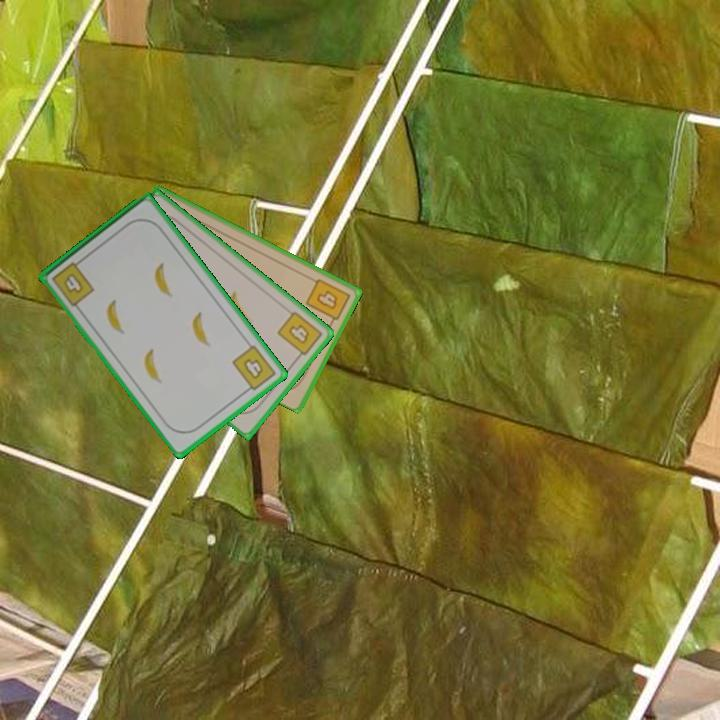4b: (274, 307, 325, 363), (228, 341, 279, 396), (302, 275, 353, 328), (48, 255, 98, 309)
